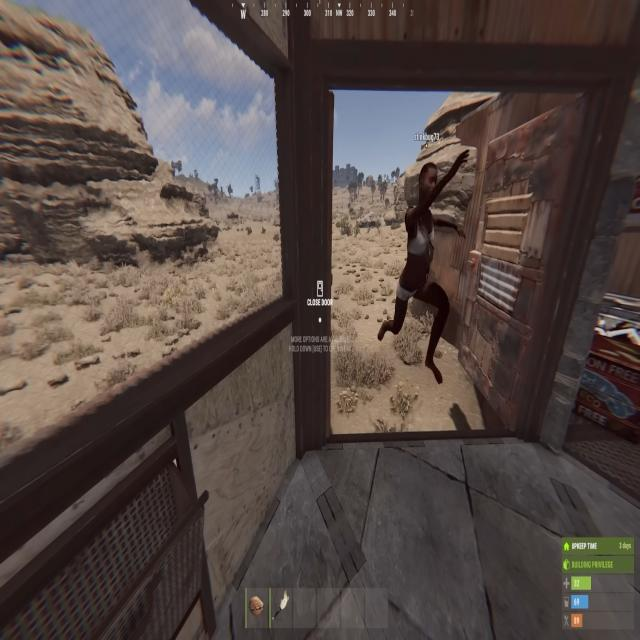Player: (379, 150, 461, 385)
